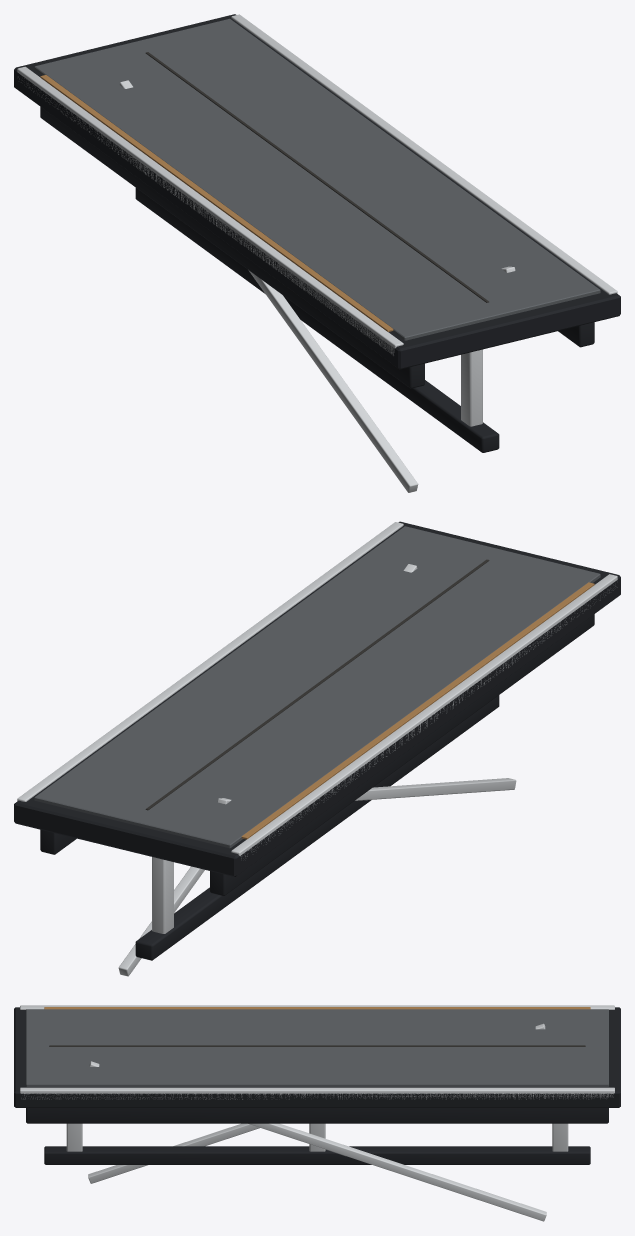
Rendered from path_bridge.glb.
3 renders of one model, top to bottom at view 1: azimuth 30°, elevation 25°; view 2: azimuth 150°, elevation 25°; view 3: azimuth 270°, elevation 25°, orthographic. The views are drawn at different scales.
Visible parts, largest first — view 1: DeckPanel, DeckSlab, DeckTrim0, LowerChord, DeckBeamL, DeckTrim1, Brace0, DeckHazard, Truss0, DeckGroove; view 2: DeckPanel, DeckSlab, LowerChord, DeckTrim0, DeckBeamL, DeckTrim1, DeckHazard, Brace0, Truss2, DeckGroove, Brace1; view 3: DeckPanel, DeckSlab, LowerChord, DeckBeamR, DeckTrim1, Brace1, DeckHazard, DeckTrim0, Brace0, DeckGroove, Truss0, Truss2 (+1 smaller).
Boxes of the visible parts, x1,y1,x2,y2 form: DeckPanel: [34, 18, 600, 340]; DeckSlab: [14, 14, 620, 369]; DeckTrim0: [17, 66, 403, 355]; LowerChord: [135, 188, 499, 452]; DeckBeamL: [40, 107, 424, 388]; DeckTrim1: [231, 14, 617, 294]; Brace0: [119, 80, 418, 492]; DeckHazard: [40, 75, 393, 331]; Truss0: [461, 349, 482, 426]; DeckGroove: [145, 52, 488, 302]; DeckPanel: [34, 526, 600, 848]; DeckSlab: [14, 521, 620, 876]; LowerChord: [135, 695, 499, 960]; DeckTrim0: [231, 574, 617, 858]; DeckBeamL: [210, 614, 594, 895]; DeckTrim1: [17, 522, 403, 801]; DeckHazard: [241, 582, 594, 839]; Brace0: [217, 778, 516, 804]; Truss2: [152, 857, 173, 933]; DeckGroove: [145, 559, 489, 810]; Brace1: [118, 564, 417, 976]; DeckPanel: [26, 1009, 608, 1086]; DeckSlab: [14, 1007, 620, 1107]; LowerChord: [44, 1146, 590, 1164]; DeckBeamR: [26, 1108, 608, 1123]; DeckTrim1: [20, 1087, 614, 1099]; Brace1: [89, 1061, 546, 1221]; DeckHazard: [44, 1007, 590, 1009]; DeckTrim0: [20, 1005, 614, 1009]; Brace0: [88, 1023, 545, 1183]; DeckGroove: [49, 1045, 585, 1046]; Truss0: [66, 1123, 82, 1151]; Truss2: [552, 1123, 568, 1151].
Bounding box in the file's own units: 1 × 0.8582 × 3.
